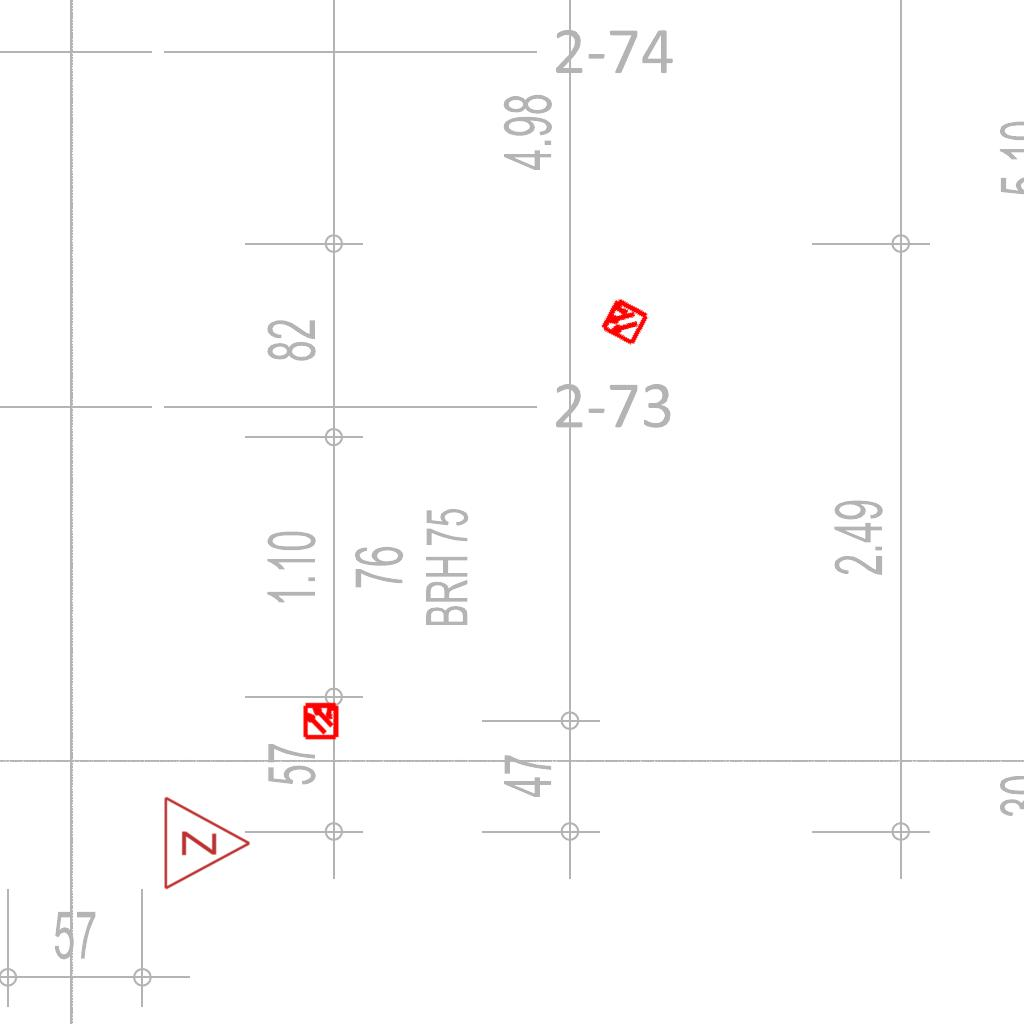OT_Multisensormelder_(Kombination_RMO_WMD): (586, 283, 662, 359), (293, 692, 349, 748)
Zimmersignalleuchte: (157, 793, 257, 891)
